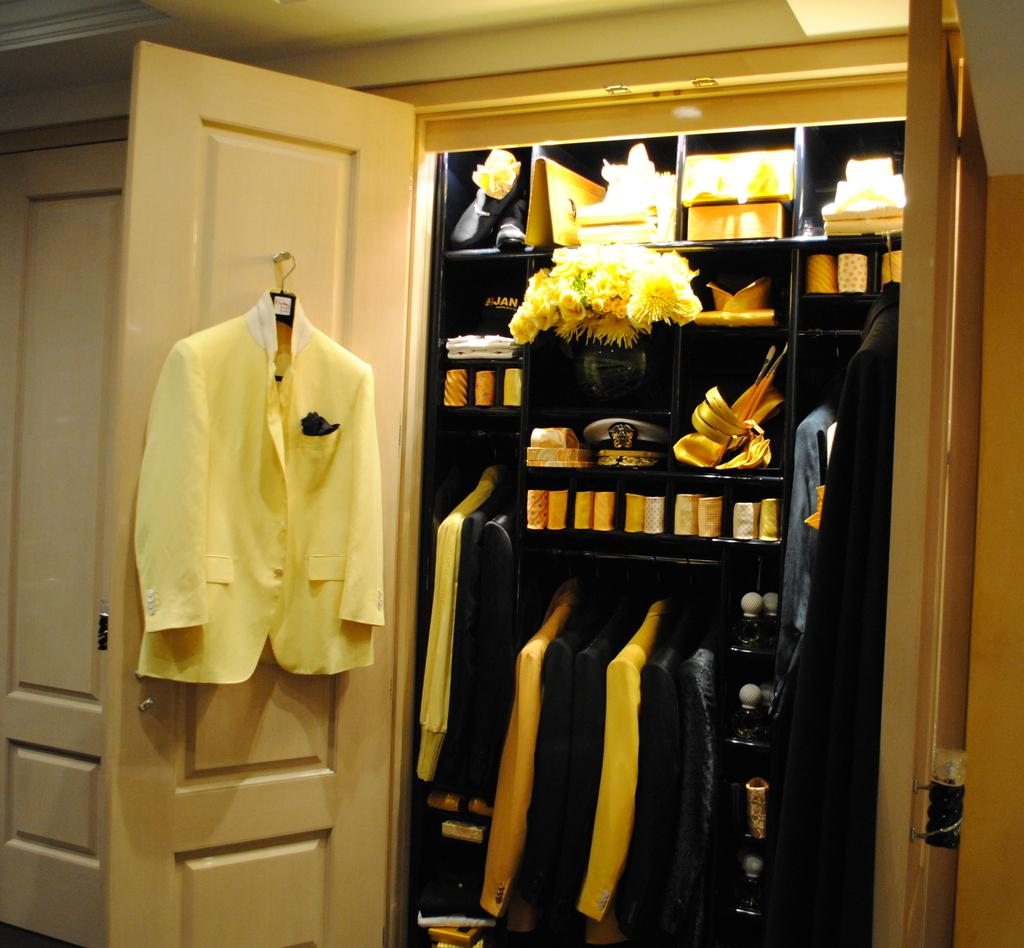cabinet_door: (138, 88, 382, 948), (909, 59, 932, 948)
handle: (914, 776, 962, 848), (134, 688, 162, 730)
